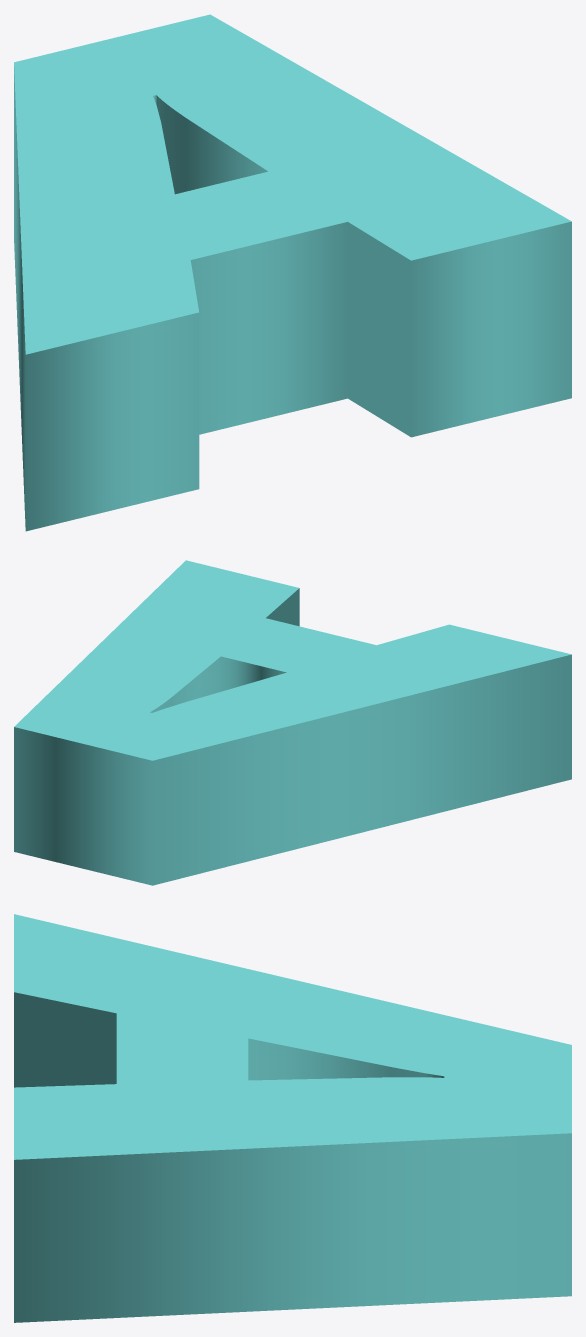
The picture shows the model from 3 angles, top to bottom: view 1: azimuth 30°, elevation 25°; view 2: azimuth 150°, elevation 25°; view 3: azimuth 270°, elevation 25°; orthographic projection. The views are drawn at different scales.
Parts seen in each view (by area): view 1: A; view 2: A; view 3: A.
Part boxes in pixels (x1,y1,x2,y2): A: (14,14,571,531); A: (14,560,571,885); A: (14,914,571,1322).
Size of the model in its own units: 51.75 by 16 by 49.64.
